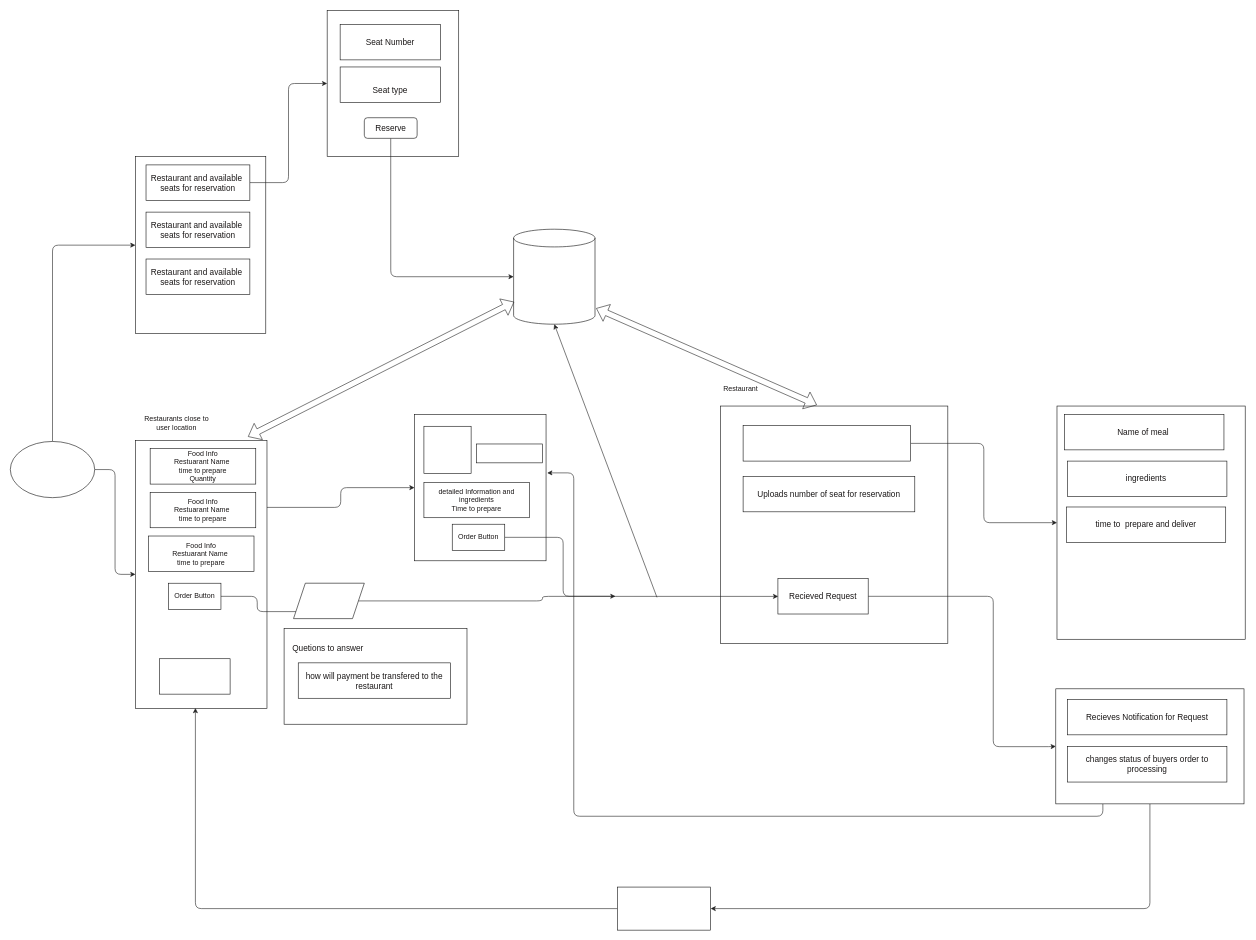
The diagram is 1256 pixels wide and 940 high, and some of its shapes have lost their labels. The centre of each missing label's shape, as x and y in pixels:
"confirm order Receipt" goes at (x=194, y=676).
"Database" goes at (x=554, y=276).
"food image" goes at (x=447, y=449).
"Qauntity" goes at (x=509, y=453).
"stripe function" goes at (x=328, y=601).
"Sustainable means of Deivery" goes at (x=664, y=908).
"Upload food items" goes at (x=827, y=443).
"user looks through list of offered food" goes at (x=52, y=469).
